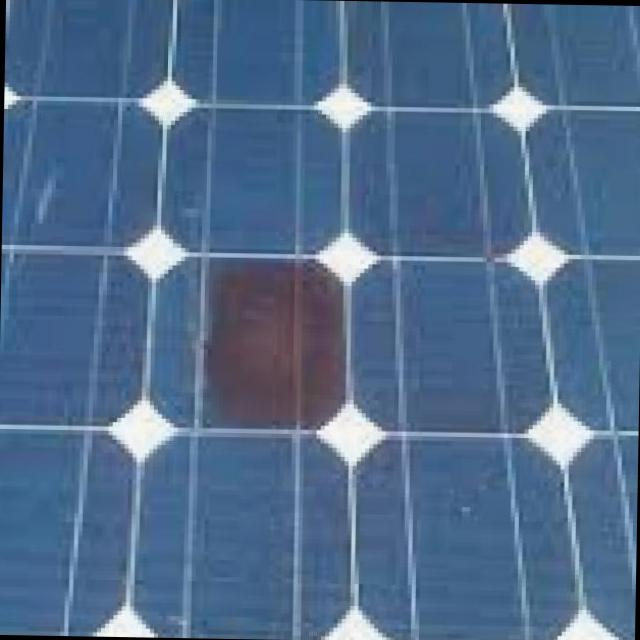faulty: (137, 236, 366, 450)
